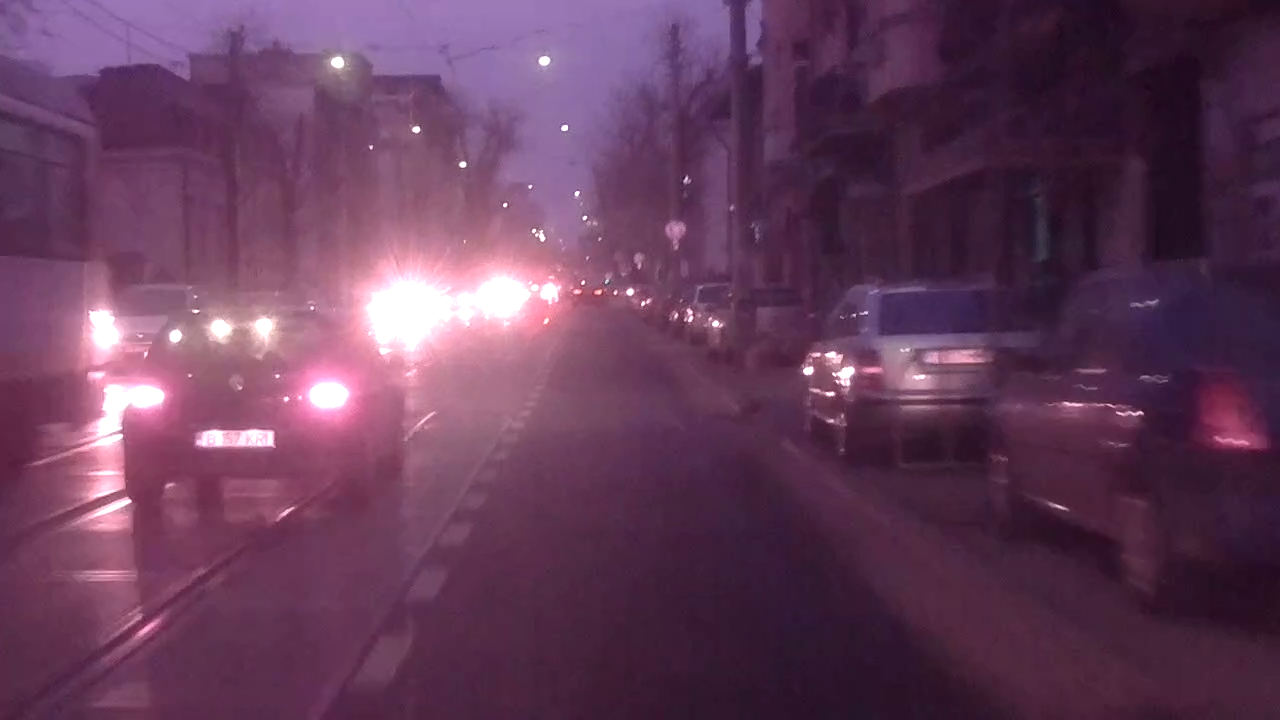license-plate: (190, 427, 277, 449)
